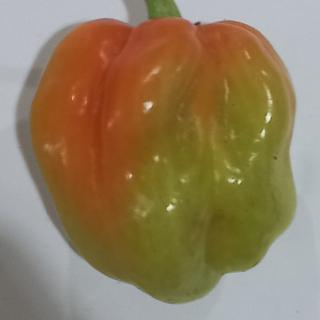Grade-A: (25, 19, 301, 308)
